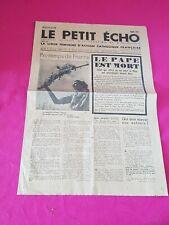paper: (18, 21, 168, 196)
